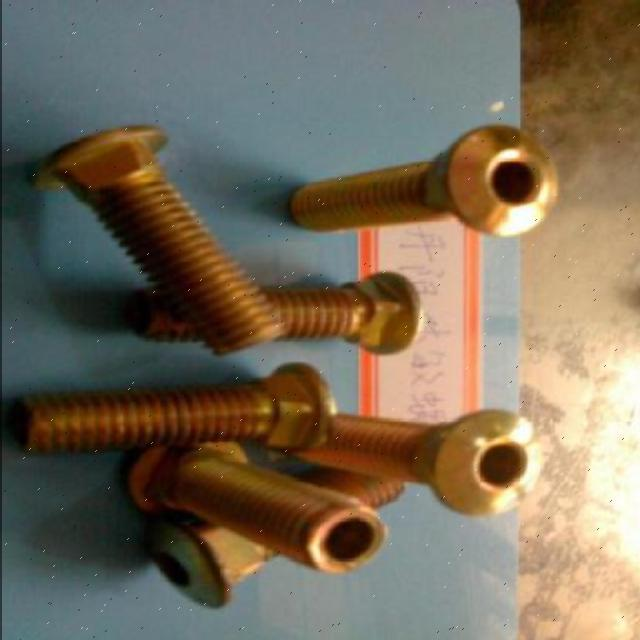Bolt: (22, 121, 286, 357), (134, 466, 406, 612), (123, 437, 386, 576), (286, 122, 557, 240), (4, 362, 336, 458), (278, 408, 544, 519), (123, 268, 425, 357)
